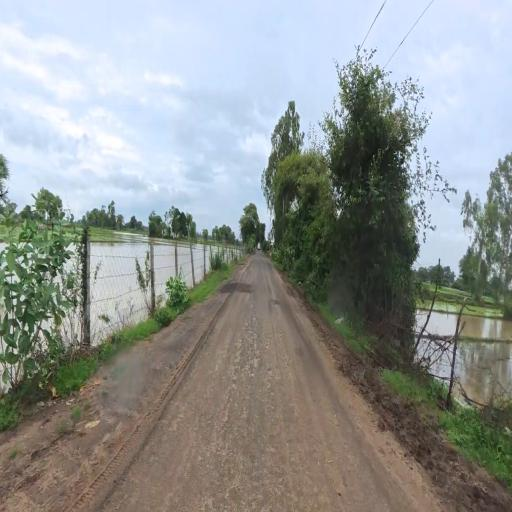ravelling: (220, 301, 273, 480)
